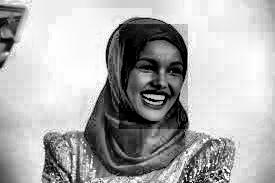Happy: (119, 25, 188, 130)
